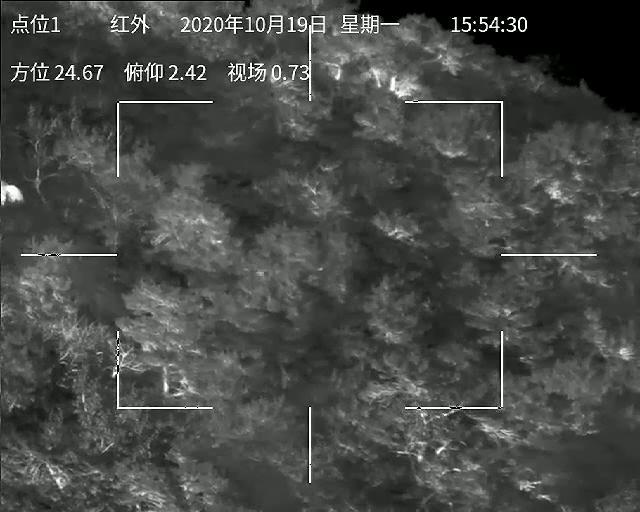uav: (256, 270, 266, 279)
